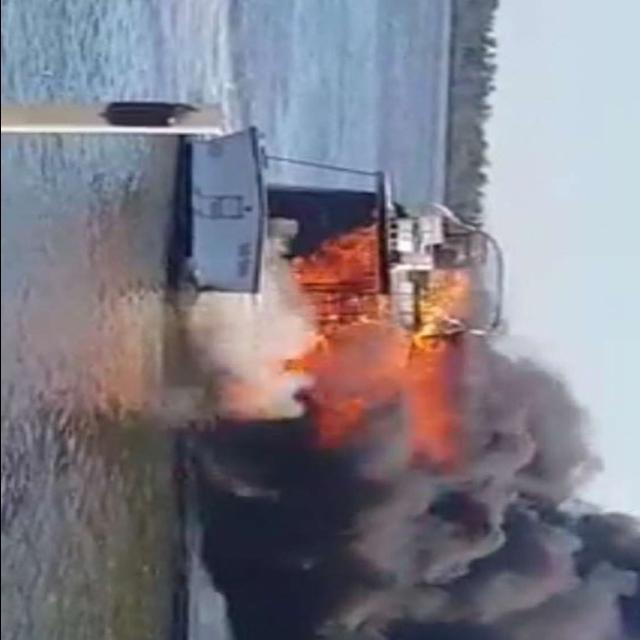Fire: (288, 219, 396, 373), (398, 269, 478, 359)
